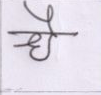ai_matra: (24, 2, 62, 31)
